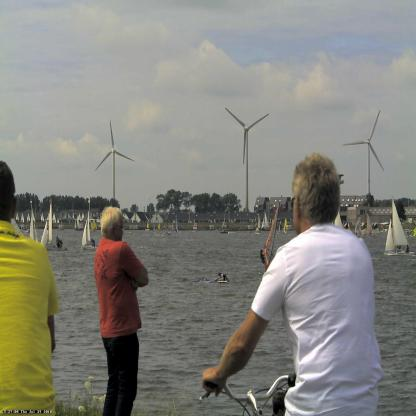other: (0, 218, 63, 411), (81, 230, 157, 333)
